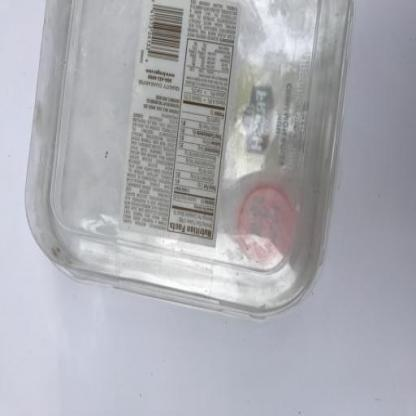trash: (26, 0, 354, 317)
